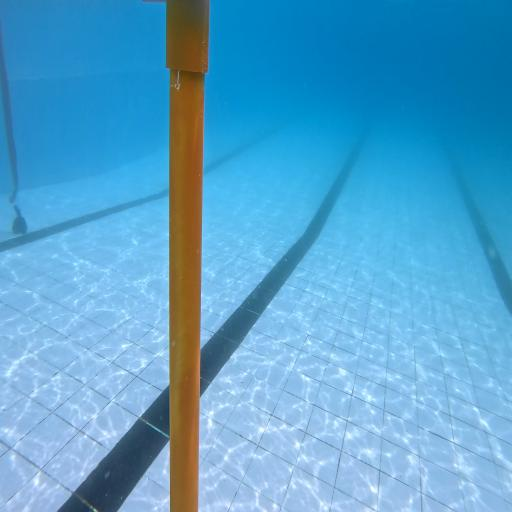pole_gate: (165, 1, 208, 512)
